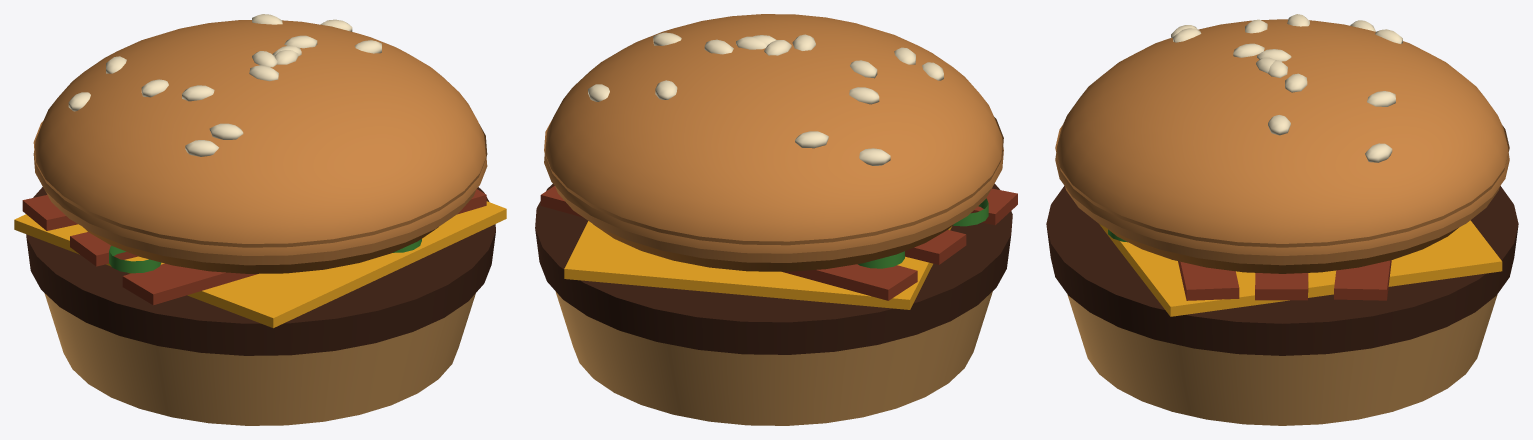
The model's file is burger-smash-picante.glb.
3 renders of one model, left to right at view 1: azimuth 30°, elevation 25°; view 2: azimuth 150°, elevation 25°; view 3: azimuth 270°, elevation 25°, orthographic.
Size of the model in its own units: 0.1541 by 0.105 by 0.1541.
